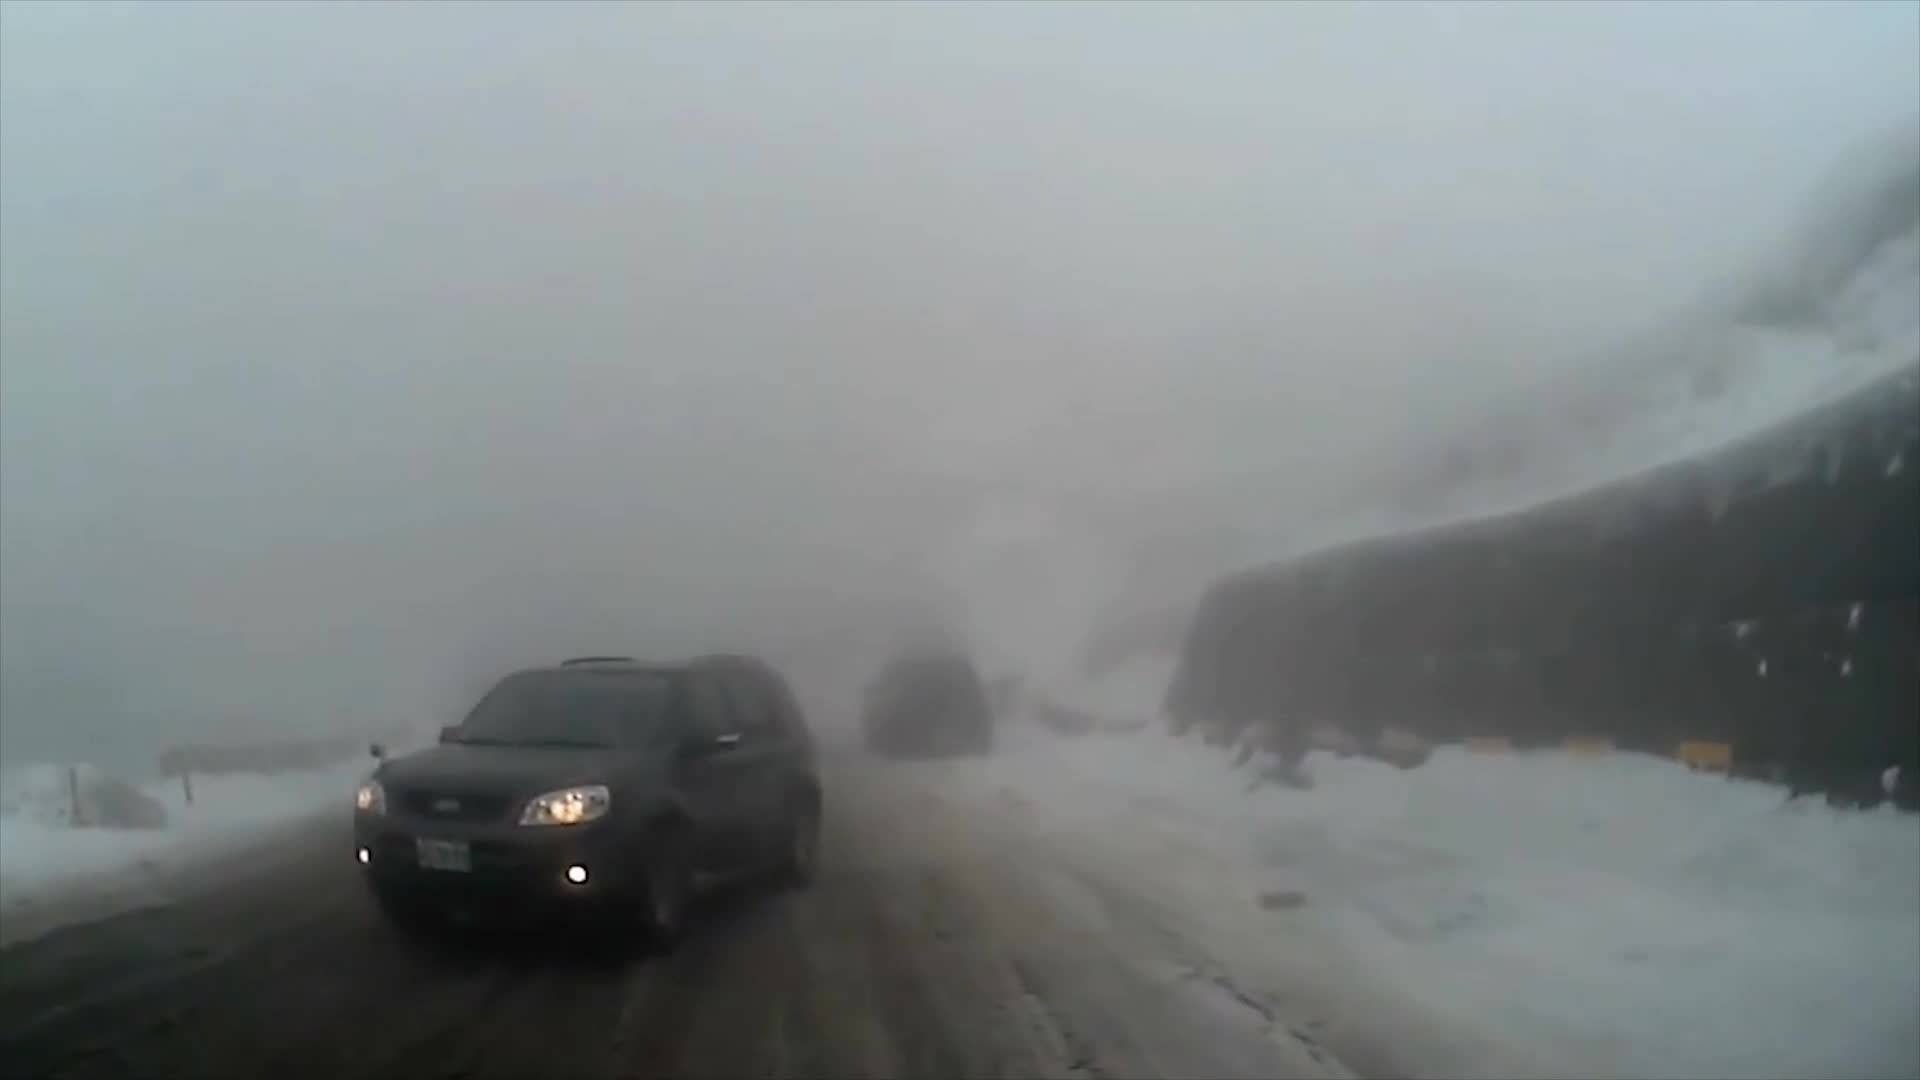vehicle: (349, 650, 825, 953), (860, 647, 994, 761)
